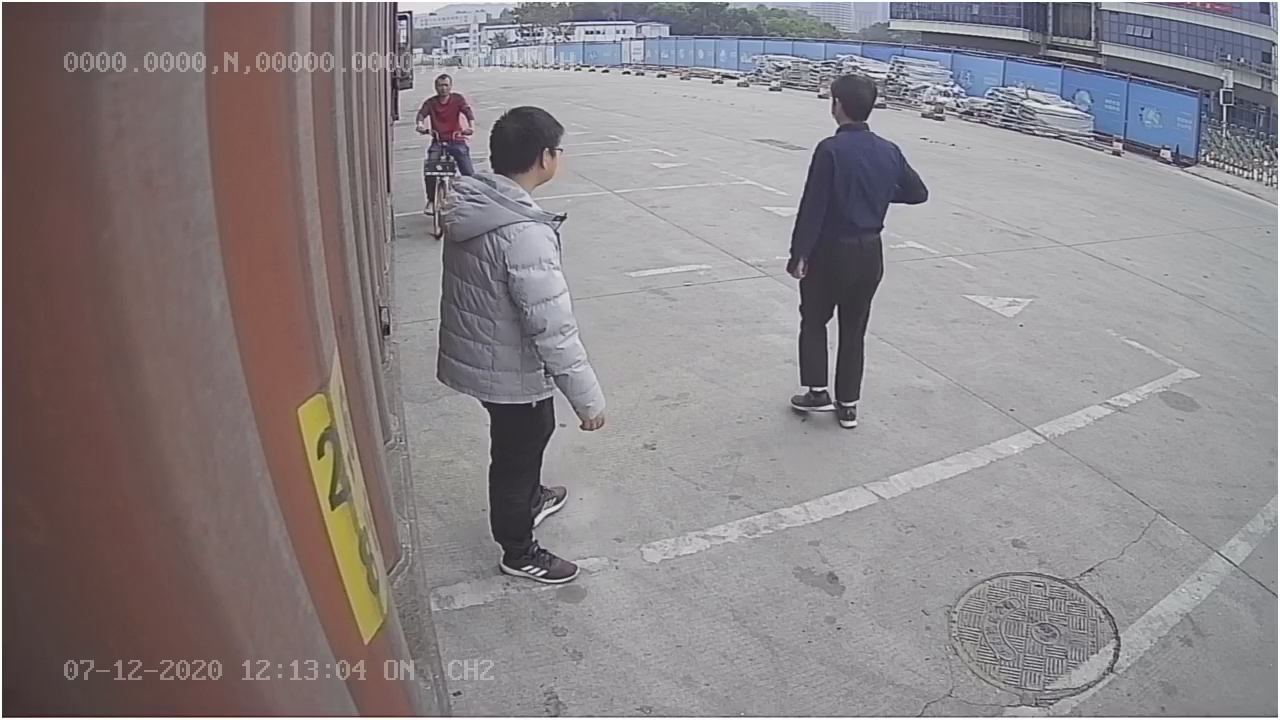person: (423, 98, 639, 593), (785, 65, 929, 430)
